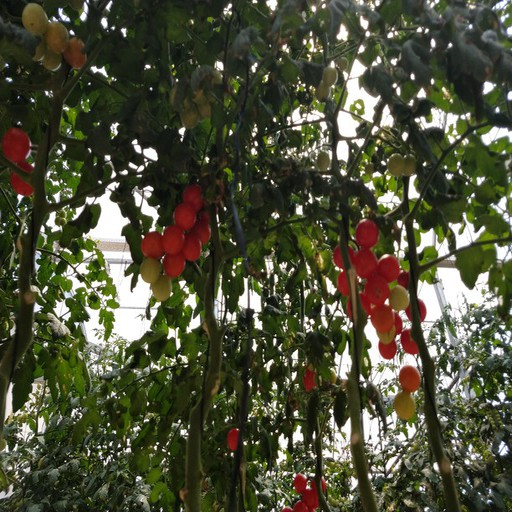green tomato bunch: (18, 4, 90, 71), (159, 80, 221, 127), (281, 58, 347, 100), (362, 142, 418, 175)
mixed tomato bunch: (334, 223, 423, 424)
red tomato bunch: (143, 189, 213, 274), (1, 133, 34, 191), (281, 470, 325, 512)
